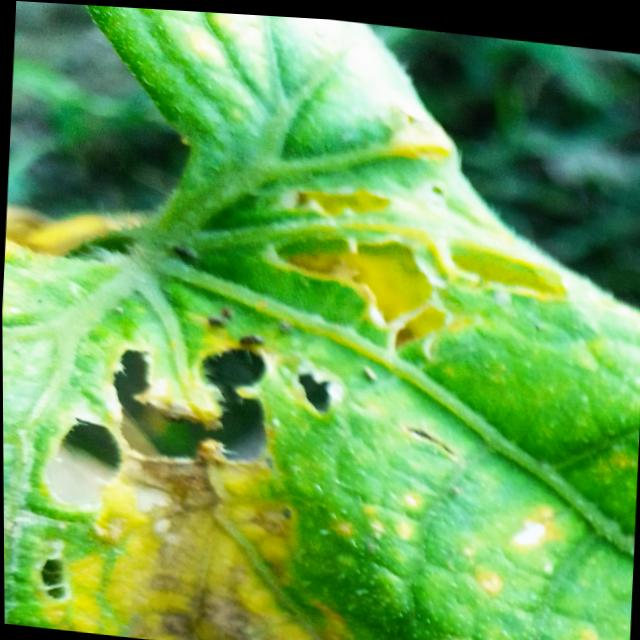Anthracnose: (31, 276, 344, 640), (259, 165, 580, 382)
